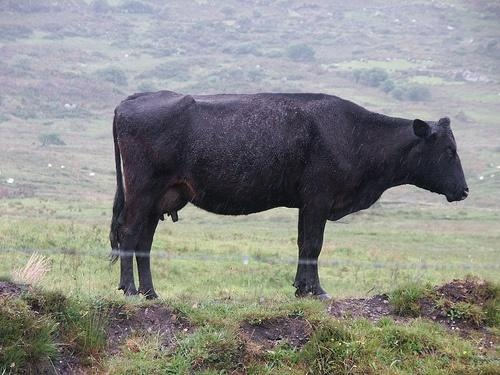cow: (111, 89, 472, 301)
